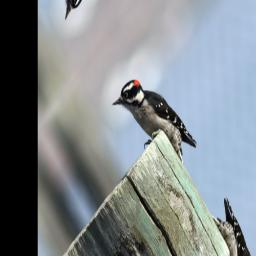Woodpecker: (110, 53, 198, 193)
